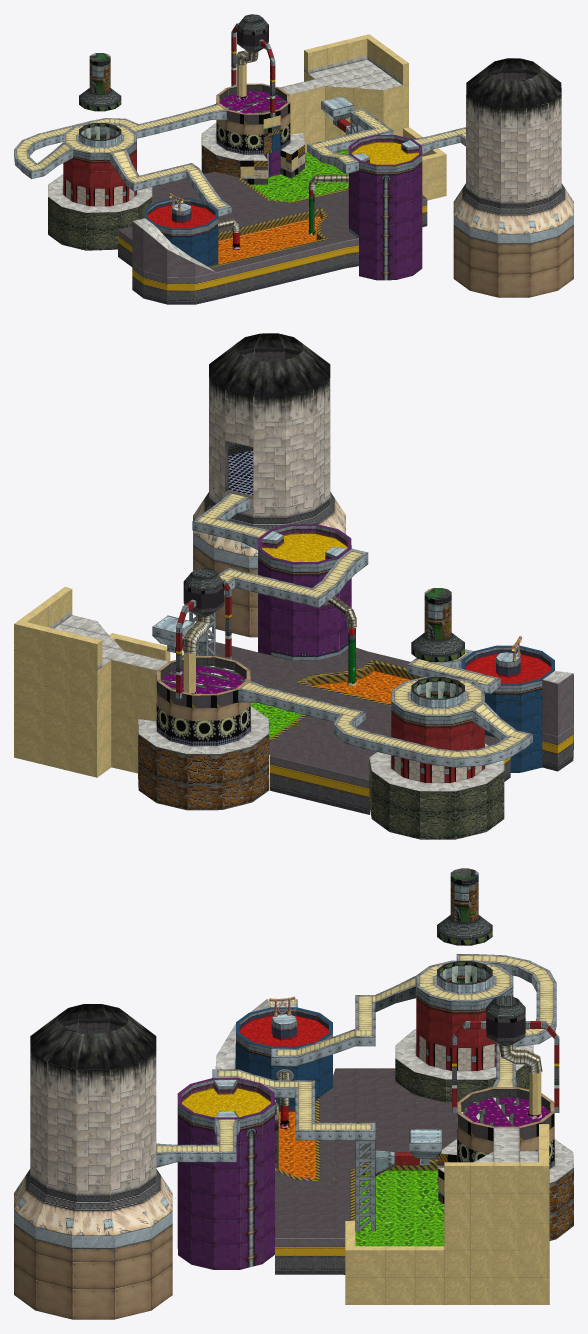
File: test-zone2.glb
The picture shows the model from 3 angles, top to bottom: view 1: azimuth 30°, elevation 25°; view 2: azimuth 150°, elevation 25°; view 3: azimuth 270°, elevation 25°; orthographic projection. The views are drawn at different scales.
Visible parts, largest first — view 1: Frame_0.002, Frame_0.006; view 2: Frame_0.002, Frame_0.006; view 3: Frame_0.002, Frame_0.006.
Boxes of the visible parts, bbox=[...] form: Frame_0.002: bbox=[14, 14, 573, 304]; Frame_0.006: bbox=[147, 91, 418, 263]; Frame_0.002: bbox=[14, 333, 573, 839]; Frame_0.006: bbox=[161, 534, 551, 739]; Frame_0.002: bbox=[14, 868, 573, 1319]; Frame_0.006: bbox=[182, 1016, 550, 1246].
Size of what is drawn, in the model's own units: 151 by 77.22 by 139.
13 materials, 13 textured.
